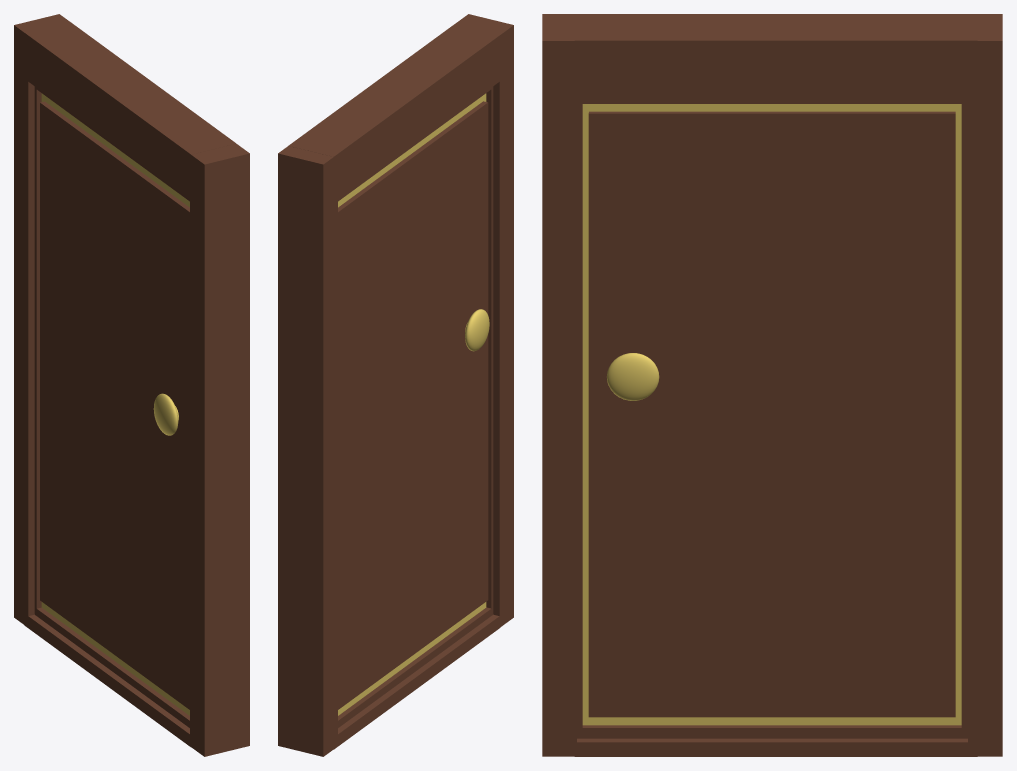
File: Doors.fbx
The picture shows the model from 3 angles, left to right: view 1: azimuth 30°, elevation 25°; view 2: azimuth 150°, elevation 25°; view 3: azimuth 270°, elevation 25°; orthographic projection. The views are drawn at different scales.
Parts seen in each view (by area): view 1: Sphere.001, Cube.003; view 2: Sphere.001, Cube.003; view 3: Sphere.001, Cube.003.
Part boxes in pixels (x1=…): Sphere.001: x1=34, y1=86, x2=189, y2=727; Cube.003: x1=14, y1=14, x2=249, y2=756; Sphere.001: x1=338, y1=86, x2=493, y2=727; Cube.003: x1=278, y1=14, x2=513, y2=756; Sphere.001: x1=577, y1=96, x2=967, y2=738; Cube.003: x1=542, y1=14, x2=1002, y2=756.
Size of the model in its own units: 70.42 by 665 by 387.
